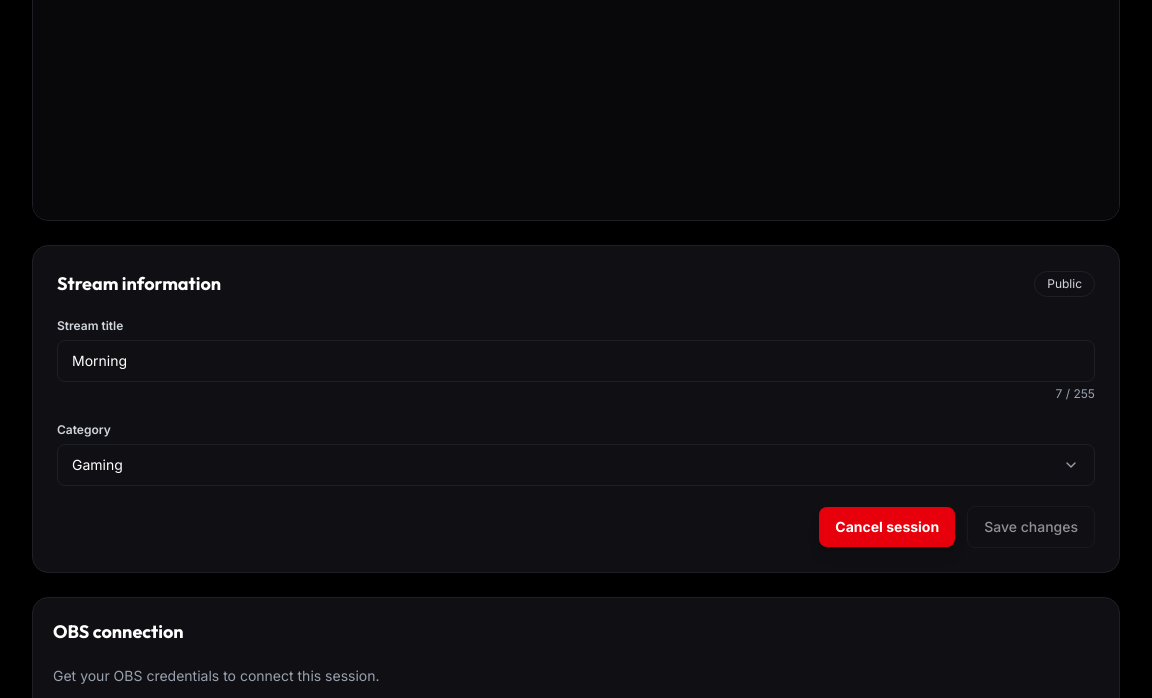
it: Stream Manager › keeps saved details when PATCH succeeds but the metadata refresh fails
(page scrolled)
Replace the text in the field labelled "Stream title" with "Saved title" at (576, 361), box [57,340,1095,382]
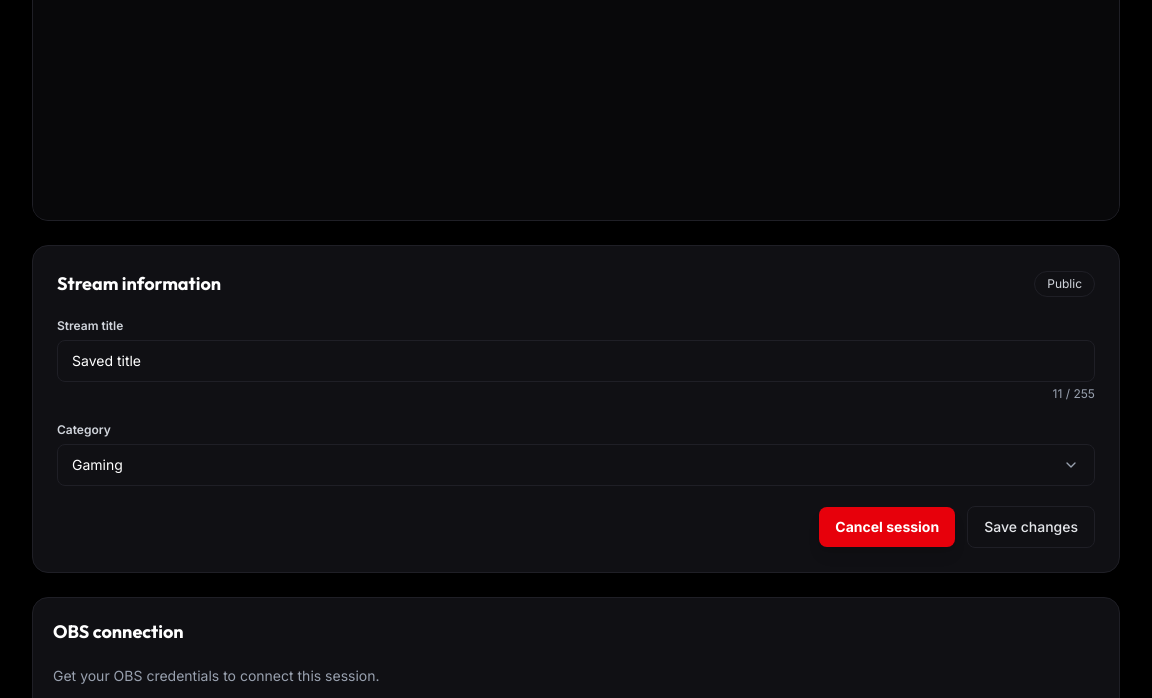
Select "Music" in the dropdown labelled "Category" at (576, 465), box [57,444,1095,486]
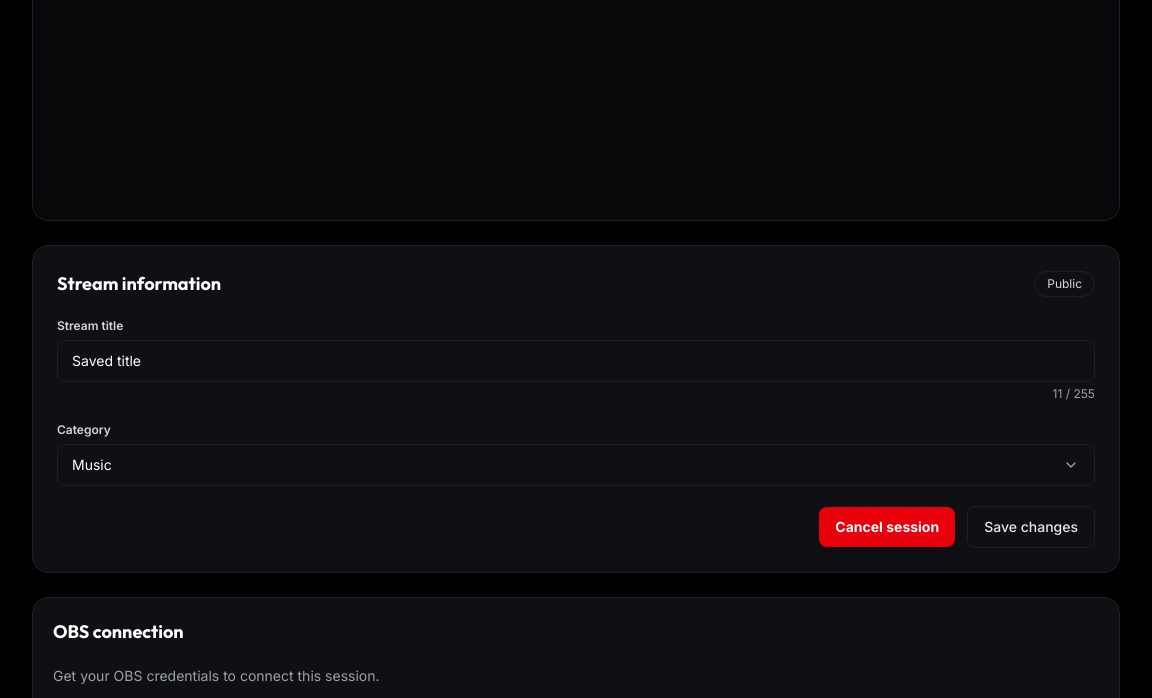
Click the button "Save changes" at (1031, 527), box [967,506,1095,548]
(page scrolled)
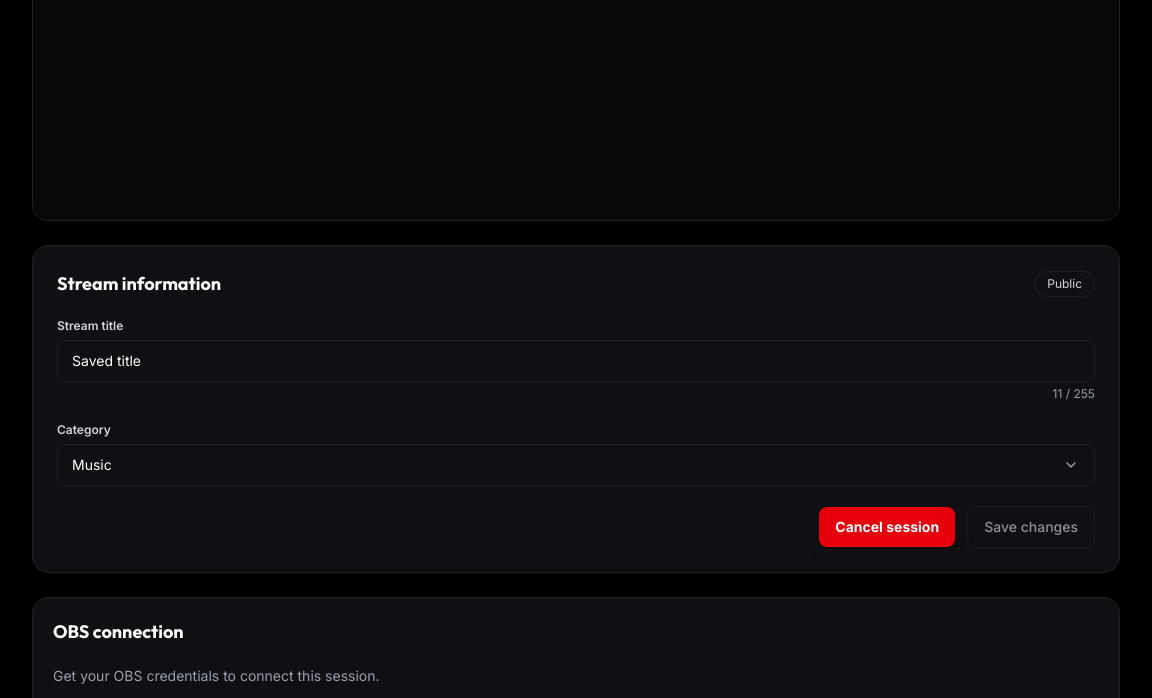
expect the button "Save changes" is disabled: met, box [967,506,1095,548]
